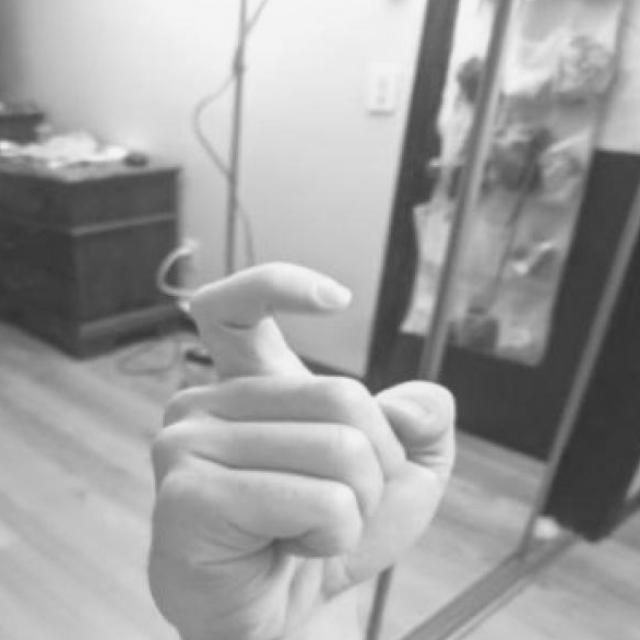X: (96, 263, 464, 640)
